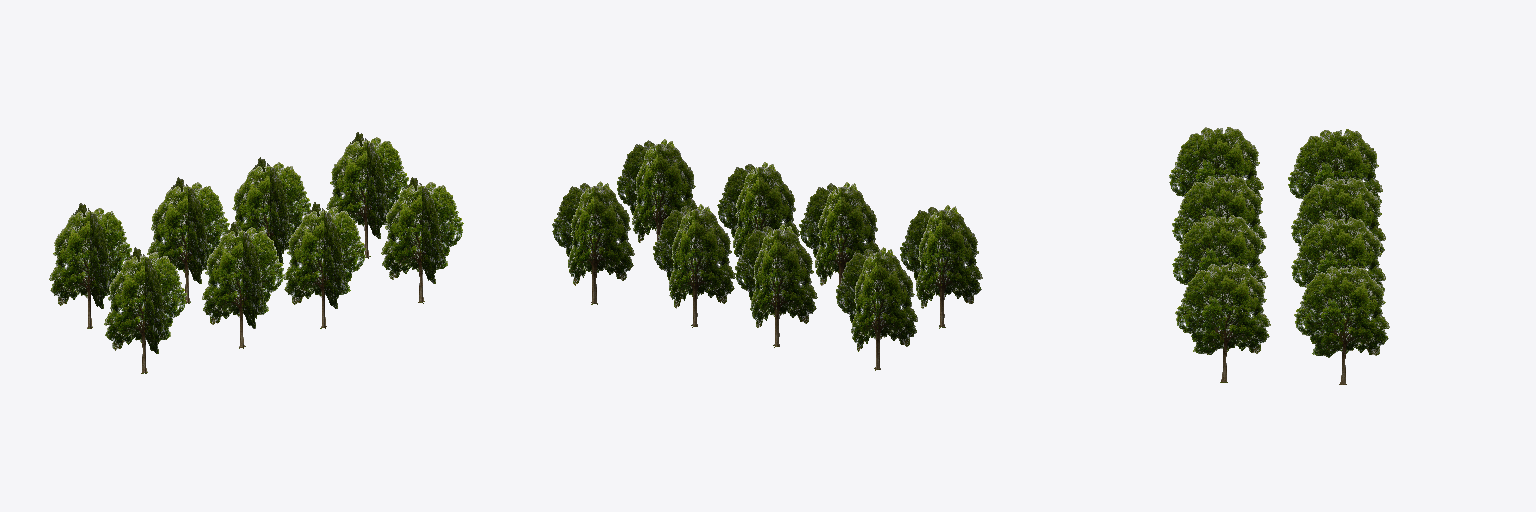
3 views of the same model, side by side, from view 1: azimuth 30°, elevation 25°; view 2: azimuth 150°, elevation 25°; view 3: azimuth 270°, elevation 25° (orthographic).
Parts seen in each view (by area): view 1: Mesh4 Model, Mesh7 Model, Mesh1 Model, Mesh5 Model, Mesh9 Model, Mesh13 Model, Mesh12 Model, Mesh14 Model, Mesh8 Model, Mesh11 Model, Mesh15 Model, Mesh2 Model (+4 smaller); view 2: Mesh9 Model, Mesh12 Model, Mesh14 Model, Mesh13 Model, Mesh1 Model, Mesh7 Model, Mesh4 Model, Mesh5 Model, Mesh16 Model, Mesh2 Model, Mesh10 Model, Mesh11 Model (+4 smaller); view 3: Mesh6 Model, Mesh11 Model, Mesh10 Model, Mesh2 Model, Mesh15 Model, Mesh8 Model, Mesh3 Model, Mesh16 Model.
Boxes of the visible parts, <box> form: Mesh4 Model: <box>202,227,283,348</box>; Mesh7 Model: <box>381,182,463,302</box>; Mesh1 Model: <box>104,252,186,373</box>; Mesh5 Model: <box>283,207,365,328</box>; Mesh9 Model: <box>49,208,131,328</box>; Mesh13 Model: <box>147,182,229,303</box>; Mesh12 Model: <box>326,137,408,257</box>; Mesh14 Model: <box>232,162,310,250</box>; Mesh8 Model: <box>307,202,345,328</box>; Mesh11 Model: <box>350,132,388,258</box>; Mesh15 Model: <box>73,203,111,328</box>; Mesh2 Model: <box>128,247,166,373</box>; Mesh9 Model: <box>836,249,917,369</box>; Mesh12 Model: <box>552,183,634,304</box>; Mesh14 Model: <box>653,206,735,326</box>; Mesh13 Model: <box>735,226,817,346</box>; Mesh1 Model: <box>900,207,982,327</box>; Mesh7 Model: <box>617,140,697,261</box>; Mesh4 Model: <box>799,183,879,304</box>; Mesh5 Model: <box>717,164,799,247</box>; Mesh16 Model: <box>751,224,793,347</box>; Mesh2 Model: <box>916,205,958,328</box>; Mesh10 Model: <box>669,204,711,327</box>; Mesh11 Model: <box>568,181,610,304</box>; Mesh6 Model: <box>1175,263,1270,382</box>; Mesh11 Model: <box>1294,266,1389,384</box>; Mesh10 Model: <box>1291,217,1385,291</box>; Mesh2 Model: <box>1169,127,1263,200</box>; Mesh15 Model: <box>1288,129,1382,202</box>; Mesh8 Model: <box>1172,215,1267,288</box>; Mesh3 Model: <box>1172,175,1266,250</box>; Mesh16 Model: <box>1291,177,1385,252</box>.
Size of the model in its own units: 38.66 by 13.04 by 20.35.
Materials: 1 (1 with a texture image).